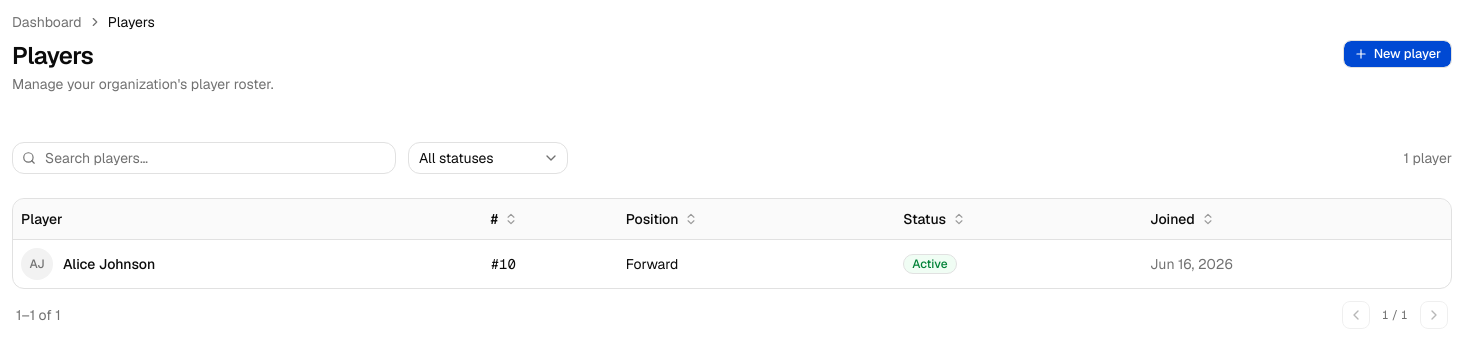
Scenario: PlayersPage — P1-1: search input sync › hides Clear button when filters are reset
Expected: the text "Alice Johnson" is shown, [63,254,155,274]
In the field labelled "Search players…": point(204, 158) [12,142,396,174], type "a"
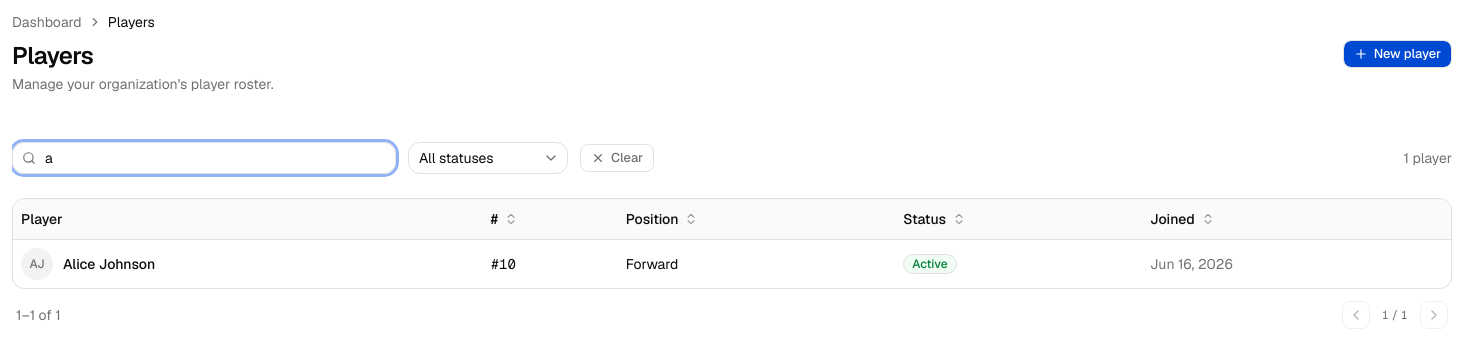
Expected: the button "Clear" is shown
Click the button "Clear": point(617, 158) [580,144,654,172]
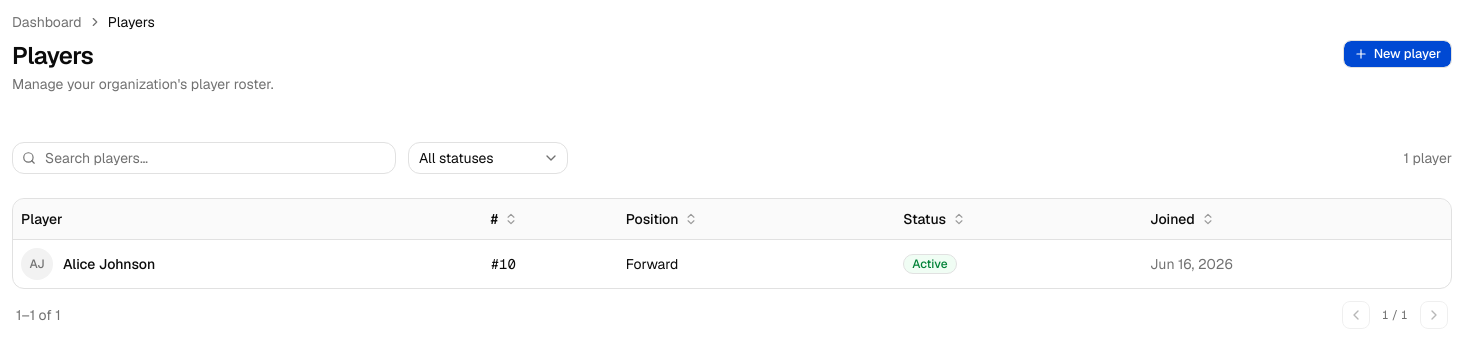
Expected: the button "Clear" is gone
